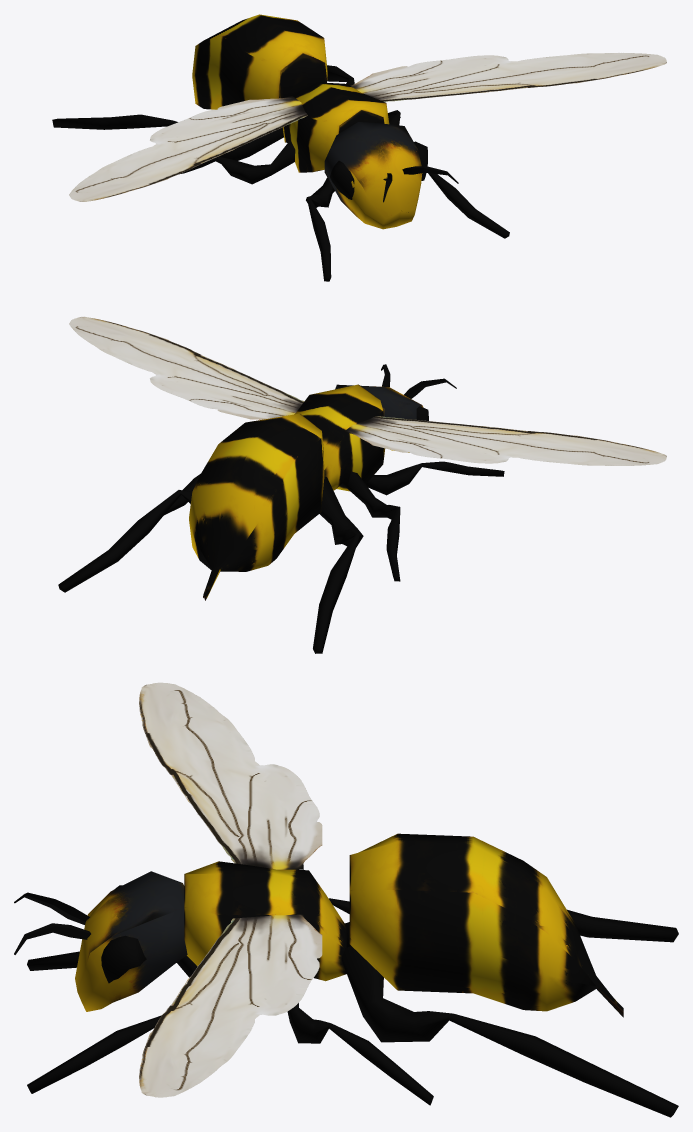
Rendered from wasp original prefab.fbx.
The picture shows the model from 3 angles, top to bottom: view 1: azimuth 30°, elevation 25°; view 2: azimuth 150°, elevation 25°; view 3: azimuth 270°, elevation 25°; orthographic projection. The views are drawn at different scales.
Visible parts, largest first — view 1: Cube, Plane, Plane.001, Cube.002, Cube.001, Cube.009, Cube.010, Cube.007, Cube.008, Cube.003; view 2: Cube, Plane, Plane.001, Cube.001, Cube.009, Cube.011, Cube.010, Cube.007, Cube.002; view 3: Cube, Plane, Plane.001, Cube.001, Cube.002, Cube.011, Cube.012, Cube.008, Cube.009, Cube.004, Cube.007, Cube.006 (+1 smaller).
Boxes of the visible parts, x1=… form: Cube: x1=192, y1=14, x2=327, y2=109; Plane: x1=69, y1=96, x2=307, y2=201; Plane.001: x1=350, y1=53, x2=666, y2=101; Cube.002: x1=324, y1=122, x2=422, y2=229; Cube.001: x1=282, y1=82, x2=389, y2=172; Cube.009: x1=52, y1=114, x2=283, y2=163; Cube.010: x1=179, y1=140, x2=295, y2=184; Cube.007: x1=306, y1=177, x2=334, y2=281; Cube.008: x1=428, y1=173, x2=509, y2=238; Cube.003: x1=330, y1=160, x2=354, y2=199; Cube: x1=189, y1=413, x2=324, y2=600; Plane: x1=344, y1=416, x2=666, y2=465; Plane.001: x1=69, y1=316, x2=304, y2=419; Cube.001: x1=294, y1=384, x2=385, y2=491; Cube.009: x1=313, y1=477, x2=363, y2=653; Cube.011: x1=58, y1=490, x2=192, y2=592; Cube.010: x1=342, y1=471, x2=400, y2=581; Cube.007: x1=366, y1=461, x2=504, y2=495; Cube.002: x1=335, y1=384, x2=422, y2=452; Cube: x1=349, y1=833, x2=623, y2=1017; Plane: x1=139, y1=682, x2=322, y2=869; Plane.001: x1=139, y1=914, x2=322, y2=1097; Cube.001: x1=184, y1=861, x2=346, y2=981; Cube.002: x1=75, y1=871, x2=187, y2=1011; Cube.011: x1=341, y1=946, x2=678, y2=1117; Cube.012: x1=287, y1=1003, x2=433, y2=1105; Cube.008: x1=27, y1=1015, x2=161, y2=1093; Cube.009: x1=345, y1=909, x2=678, y2=947; Cube.004: x1=101, y1=935, x2=146, y2=983; Cube.007: x1=27, y1=951, x2=197, y2=977; Cube.006: x1=14, y1=892, x2=89, y2=924.
Size of the model in its own units: 82.55 by 17.84 by 56.52.
Materials: 1 (1 with a texture image).
